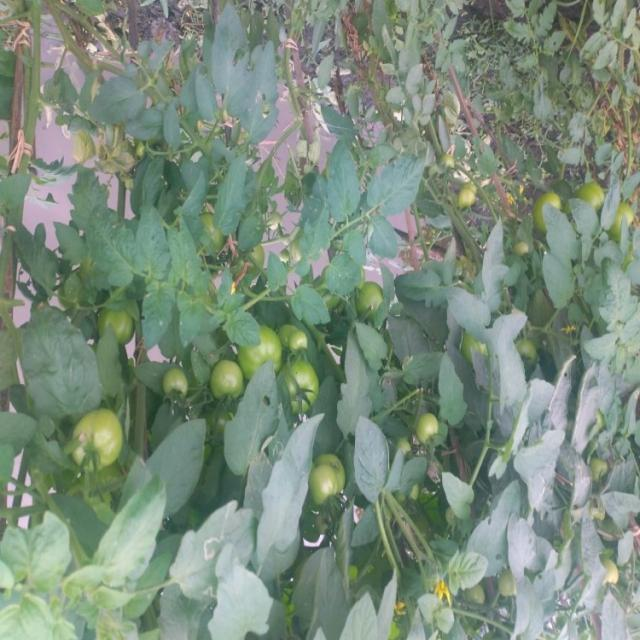tomato: (63, 415, 122, 471), (351, 285, 407, 342), (277, 364, 325, 427), (308, 452, 353, 518), (238, 335, 288, 382), (218, 364, 257, 406), (285, 319, 320, 360), (535, 191, 570, 230), (615, 201, 640, 235), (167, 367, 191, 400), (585, 172, 603, 216), (105, 304, 130, 334), (423, 417, 441, 440)
